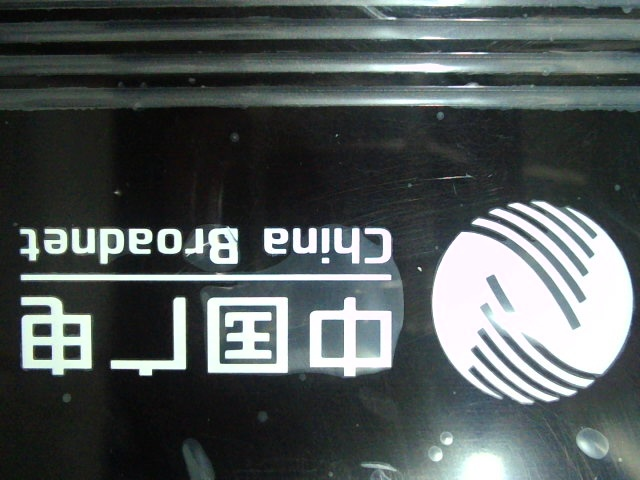AW_ChinaBroadNet: (9, 191, 635, 416)
